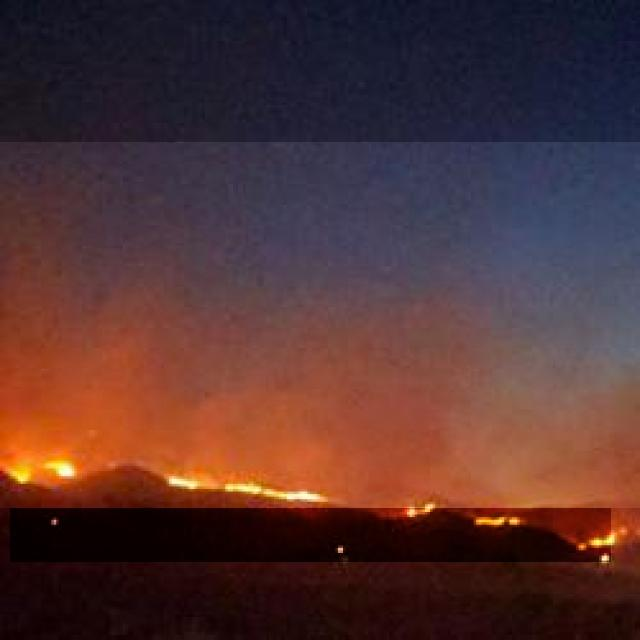Fire: (10, 430, 611, 562)
Smoke: (0, 142, 640, 508)
